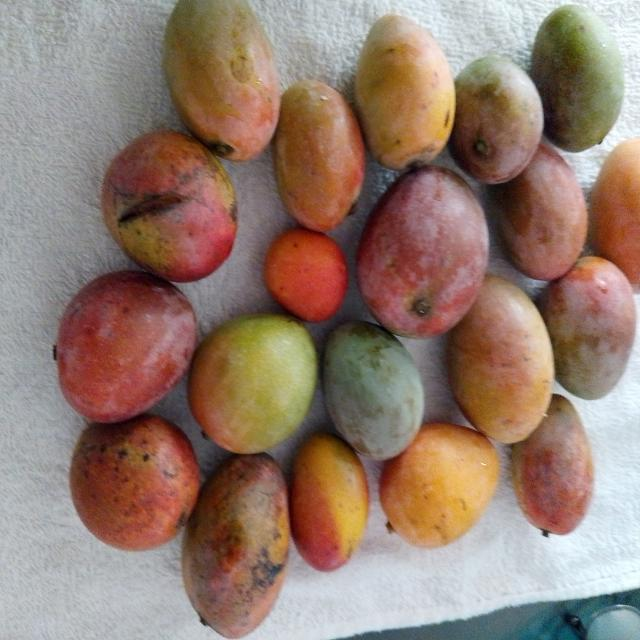mango: (357, 166, 488, 337), (56, 271, 197, 422), (101, 131, 237, 281), (182, 454, 289, 638), (163, 0, 280, 161), (447, 275, 554, 443), (188, 314, 317, 453), (70, 415, 199, 550), (355, 15, 455, 170), (380, 424, 498, 547), (323, 321, 423, 459), (531, 5, 624, 152), (274, 81, 365, 231), (540, 257, 636, 399), (491, 144, 587, 280), (449, 57, 543, 184), (512, 395, 593, 534), (290, 433, 368, 571), (264, 228, 348, 322), (590, 138, 639, 289)
